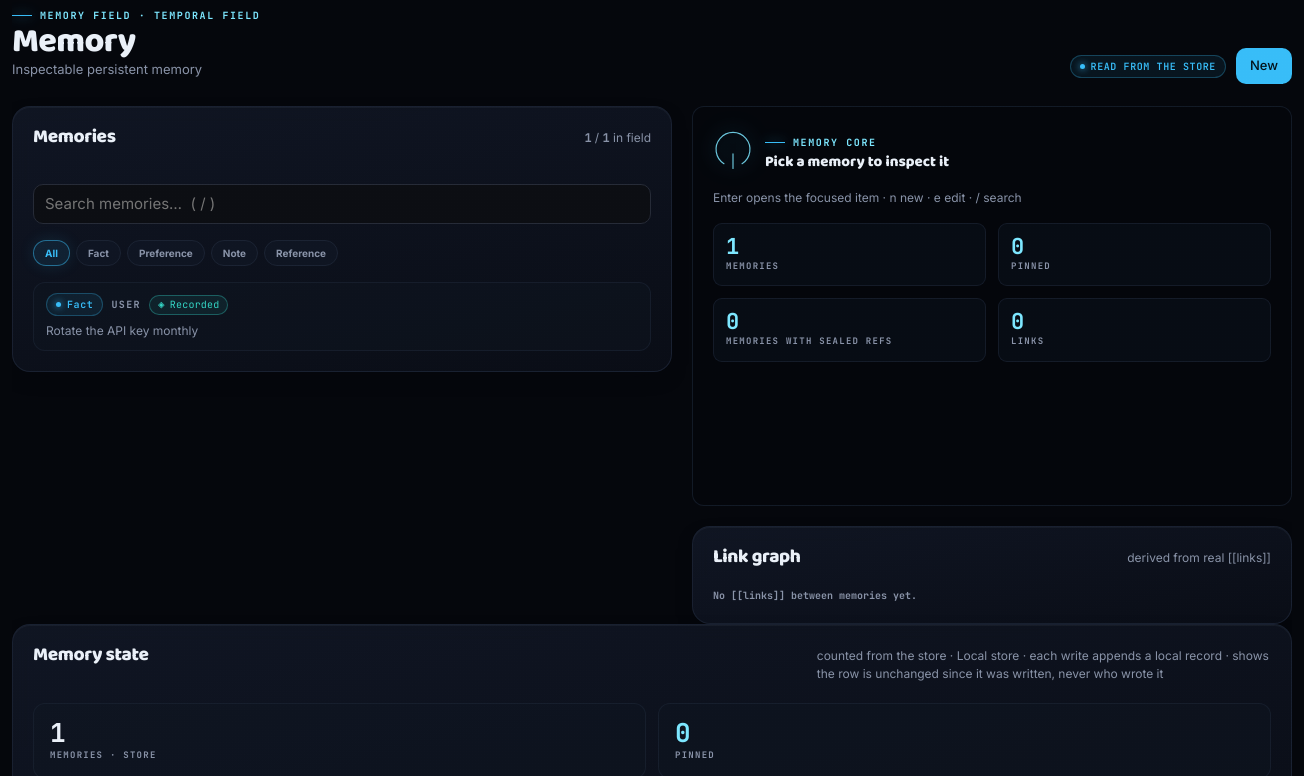
Test: Memory — the write record never borrows the receipt vocabulary › says "recorded" and nothing stronger for a row that matches its record
Expected: the text "Recorded" is shown, [170,298,219,311]
Step 1. Click the text "Rotate the API key monthly" → (122, 331), box [46,322,198,340]
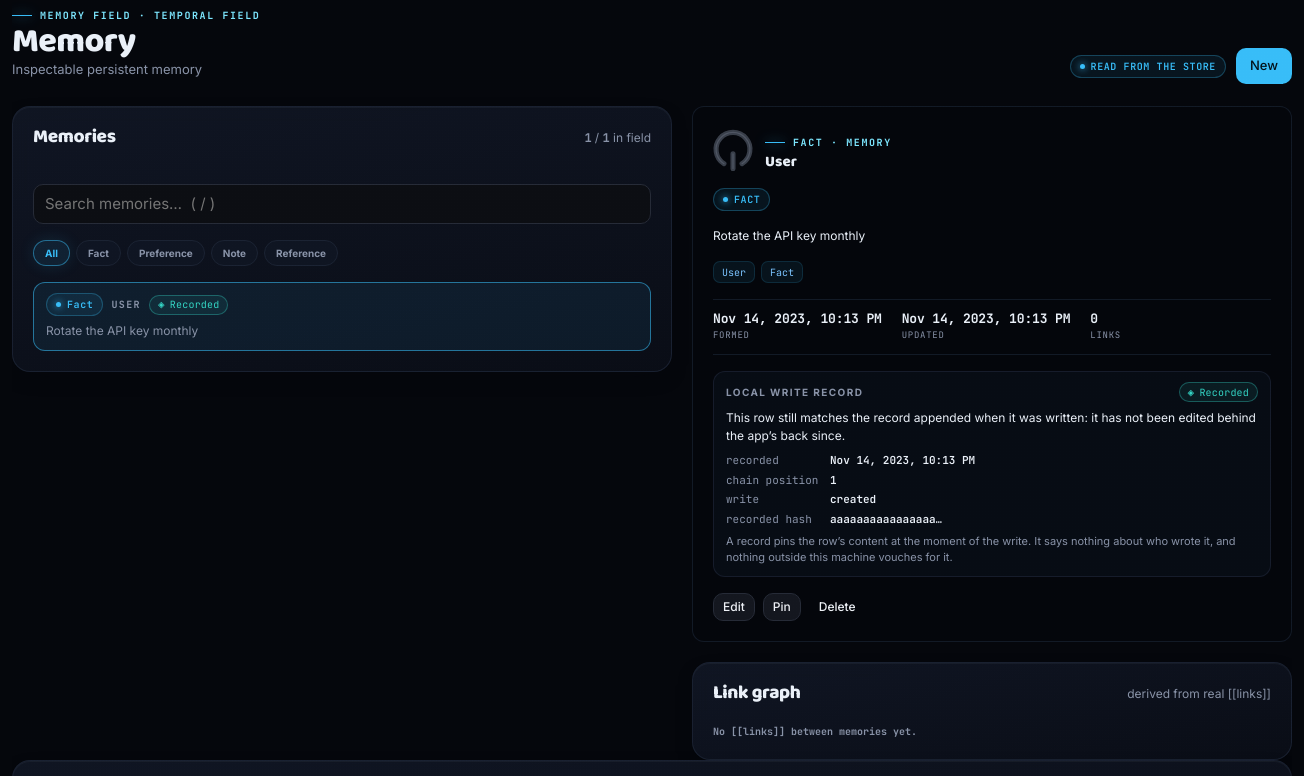
Expected: the button "Delete" is shown, [809,593,866,621]
Expected: the text "nothing outside this machine vouches for it" is shown, [726,534,1236,564]
